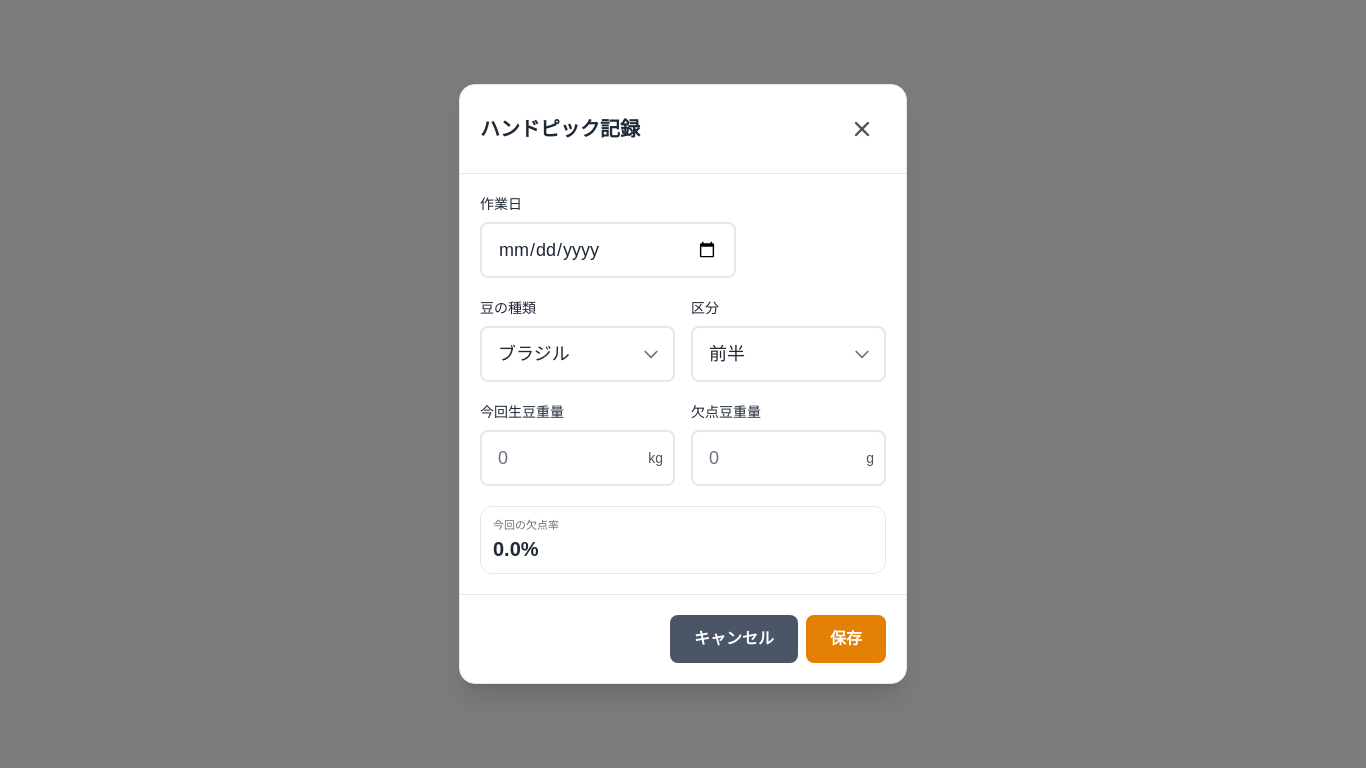
Test case: HandpickEntryModal › 作業日が空だと保存できずエラーを表示する
The image size is (1366, 768).
Type "10" into the number field labelled "今回生豆重量" at (578, 458), box [480,430,675,486]
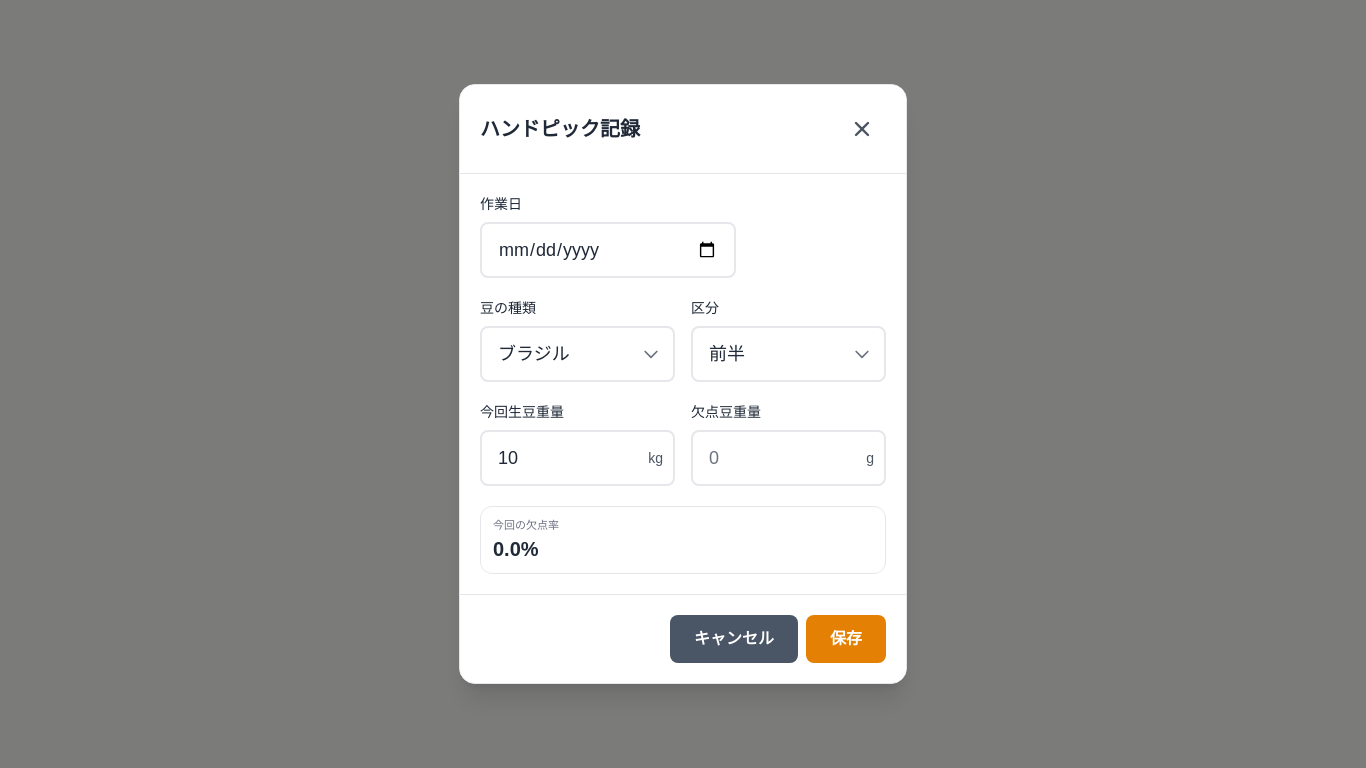
Click the button "保存" at (846, 639), box [806,615,886,663]
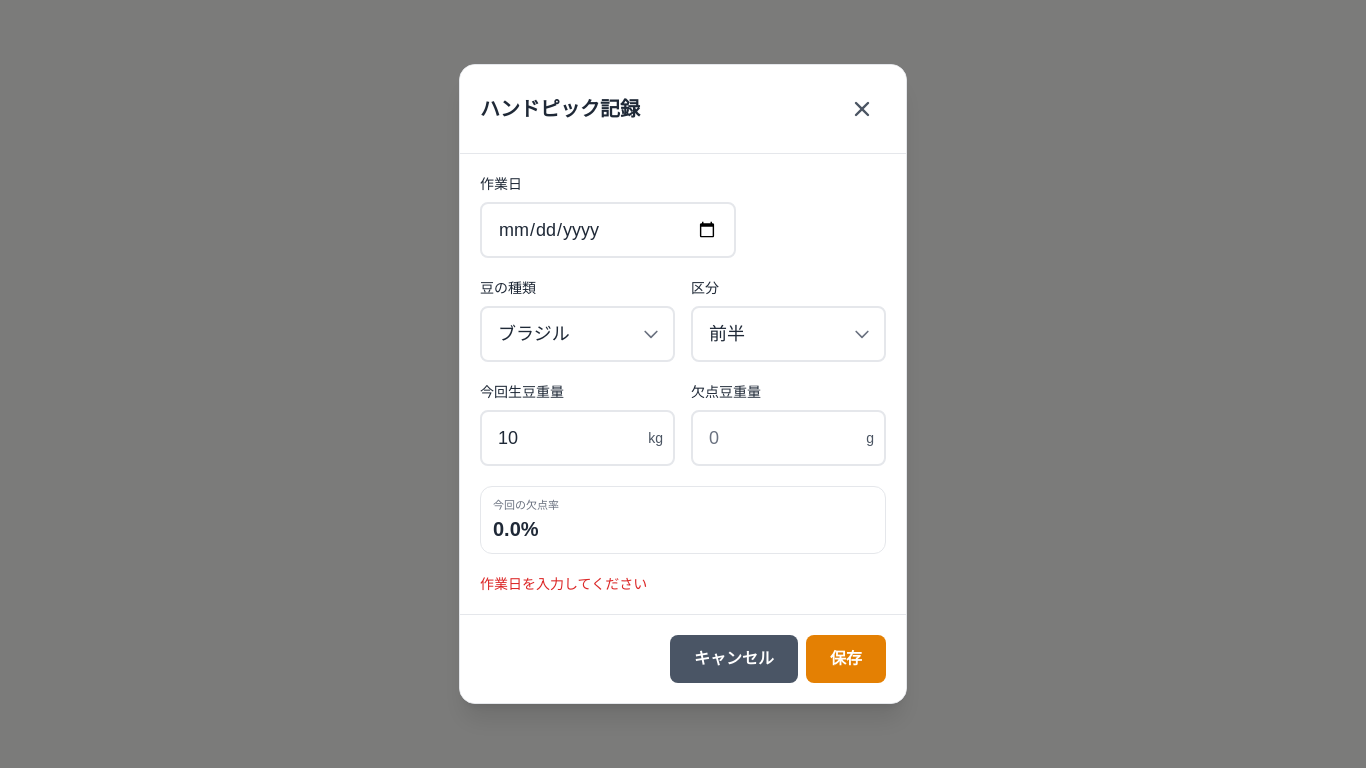
Check: the message "作業日を入力してください" is shown, box [480,576,647,592]
